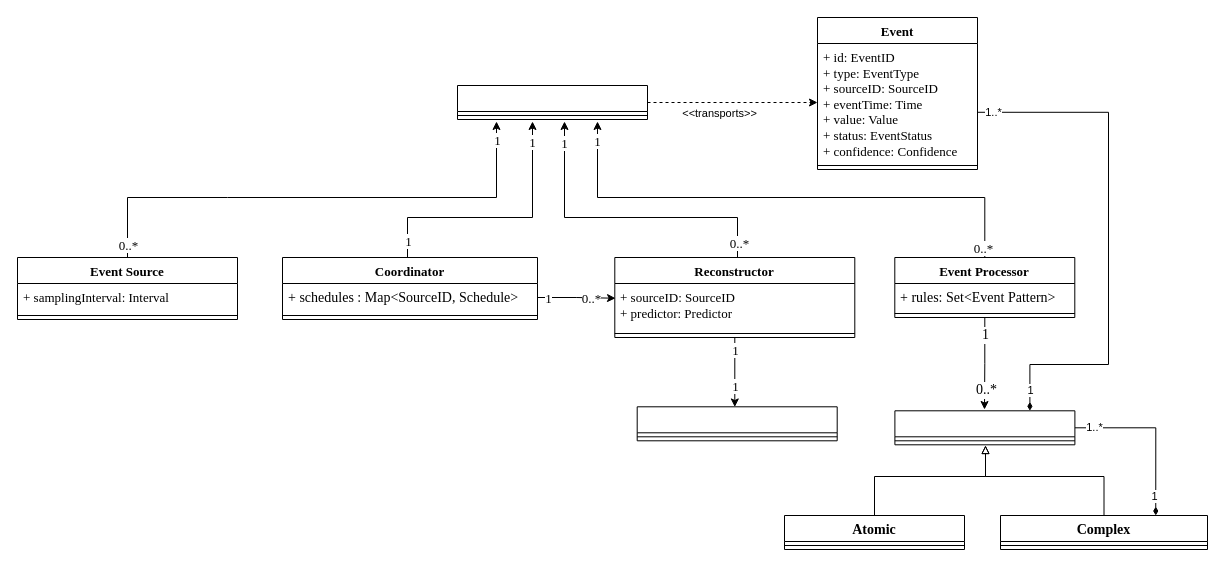
This 1225x567 diagram has some shape labels left out. Here are the shapes that lost their labels. From the top down, the centre of each, then its label:
At point 552,102: "EventStream".
At point 736,423: "Predictor".
At point 984,427: "Event Pattern".
